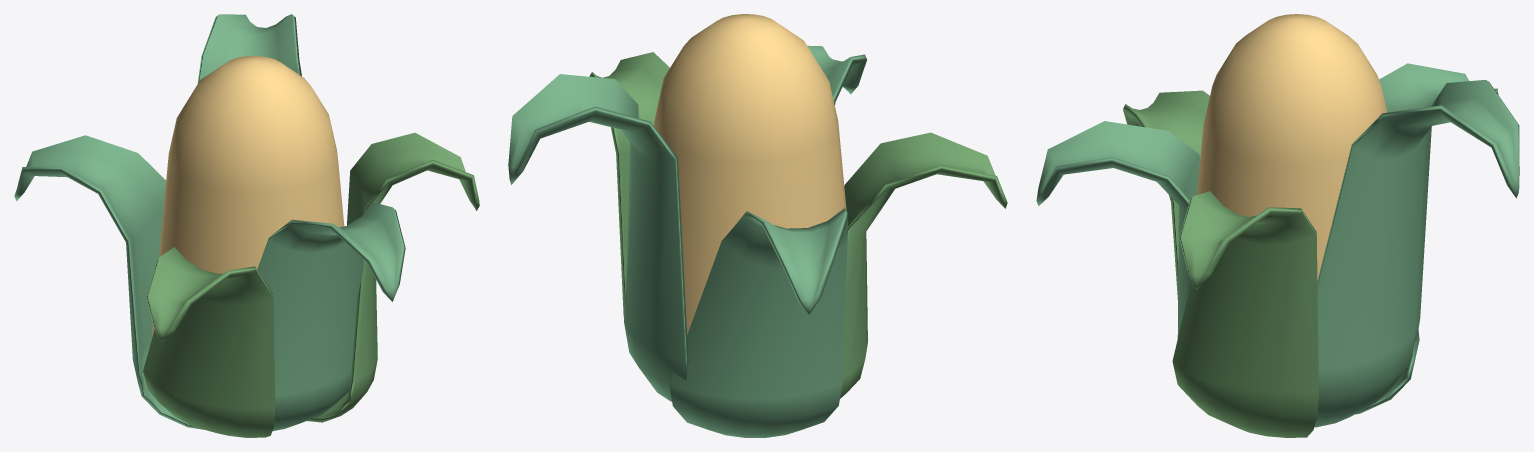
The model's file is Corn.fbx.
The picture shows the model from 3 angles, left to right: view 1: azimuth 30°, elevation 25°; view 2: azimuth 150°, elevation 25°; view 3: azimuth 270°, elevation 25°; orthographic projection. The views are drawn at different scales.
Parts seen in each view (by area): view 1: Corn; view 2: Corn; view 3: Corn.
Boxes of the visible parts, x1=… form: Corn: x1=14, y1=14, x2=479, y2=437; Corn: x1=508, y1=14, x2=1007, y2=437; Corn: x1=1036, y1=14, x2=1519, y2=437.
Bounding box in the file's own units: 29.98 × 30.45 × 32.84.
